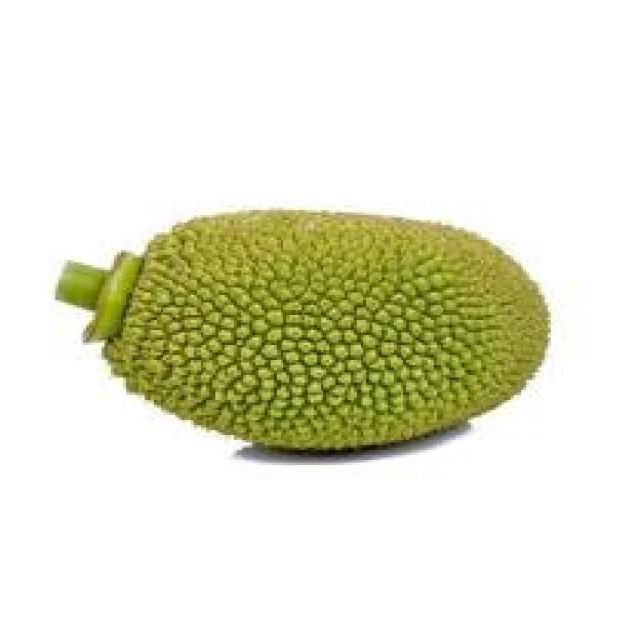Fruit: (166, 195, 569, 475)
